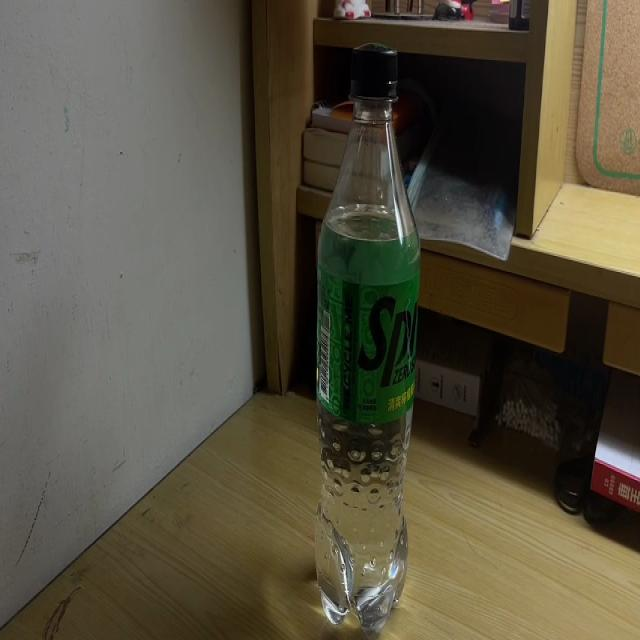Sprite: (316, 43, 421, 638)
